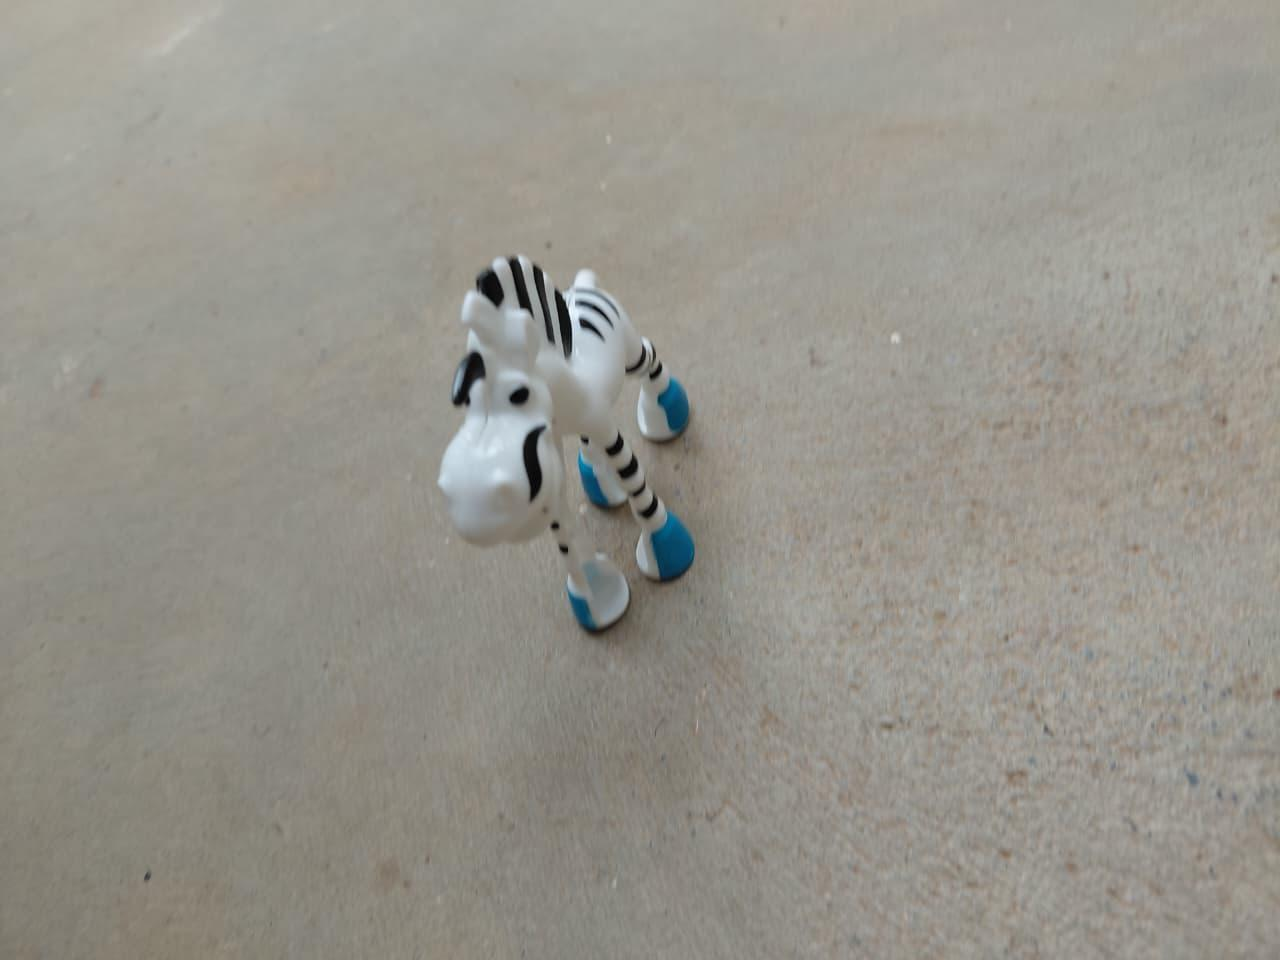zebra: (428, 236, 716, 644)
